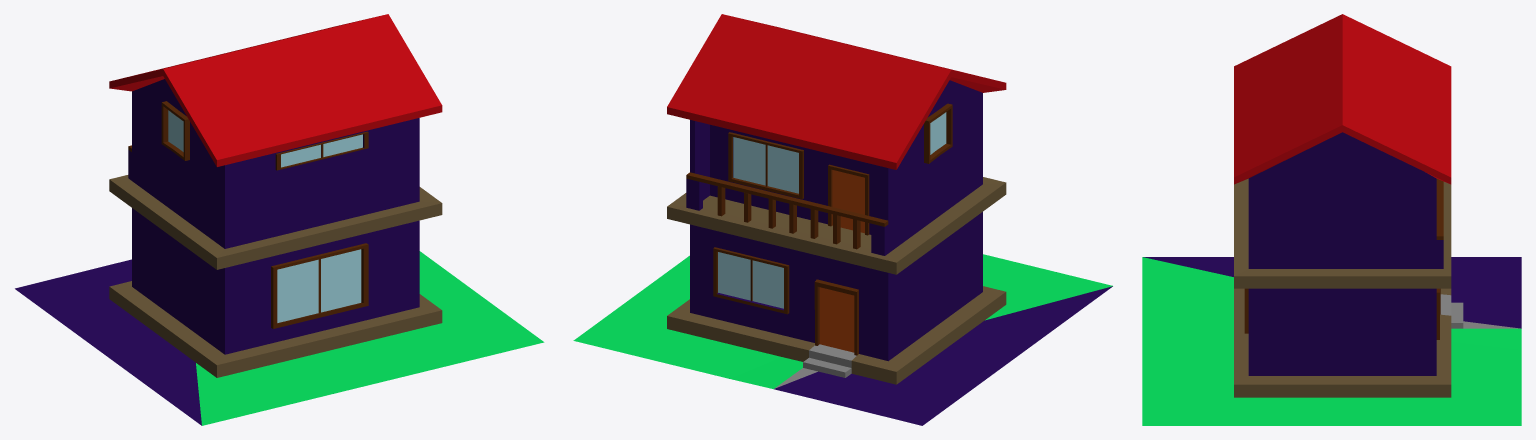
The model's file is house-2F.fbx.
The picture shows the model from 3 angles, left to right: view 1: azimuth 30°, elevation 25°; view 2: azimuth 150°, elevation 25°; view 3: azimuth 270°, elevation 25°; orthographic projection.
Parts seen in each view (by area): view 1: Cube; view 2: Cube; view 3: Cube.
Boxes of the visible parts, x1,y1,x2,y2 form: Cube: [15, 14, 544, 425]; Cube: [573, 14, 1112, 425]; Cube: [1142, 14, 1521, 425].
Size of the model in its own units: 1997 by 1502 by 1894.
